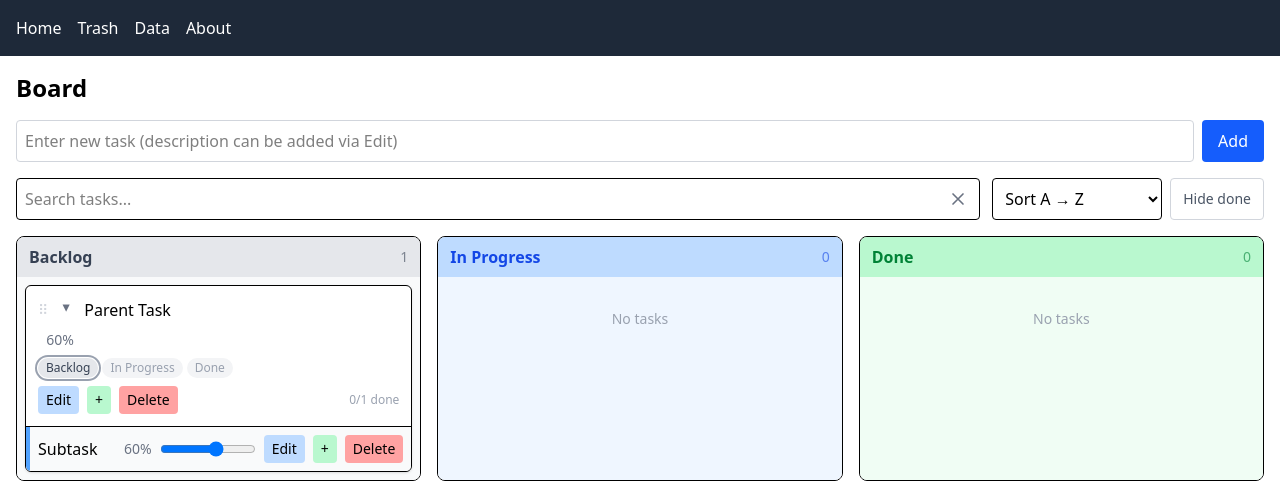
deleting a parent task also removes its subtask
This screenshot has width=1280, height=498.
Expected: the text "Subtask" is shown, [38,437,98,461]
// First delete button belongs to the parent row
Click the button "Delete" below "Parent Task" at (148, 400), box [119,386,178,414]
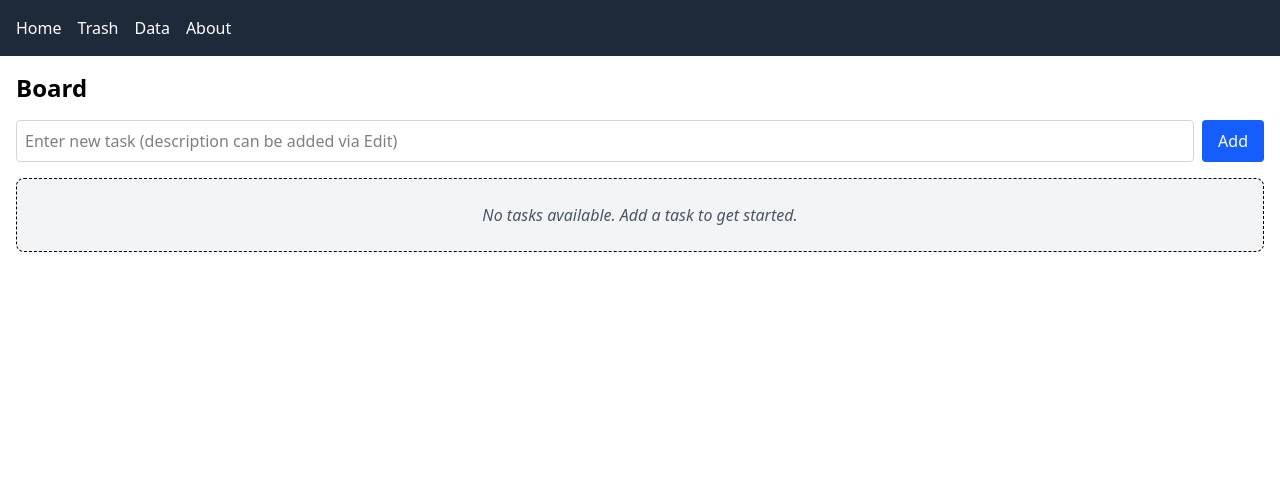
Expected: the text "Parent Task" is gone
Expected: the text "Subtask" is gone
